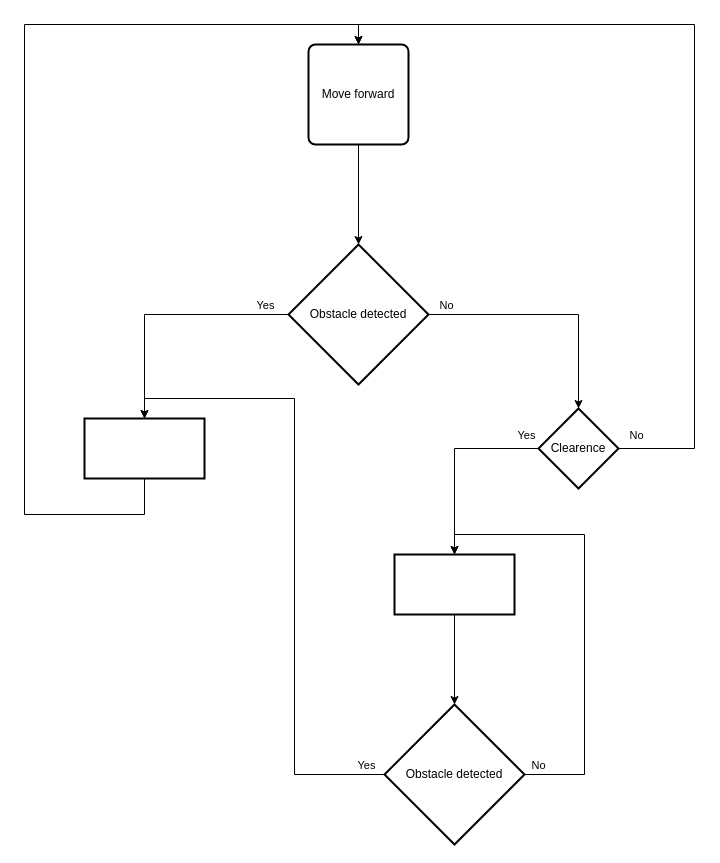
This 720x863 diagram has some shape labels left out. Here are the shapes that lost their labels. From the top down, the centre of each, then its label:
At point 144,448: "Redirect".
At point 454,584: "Exploration".
